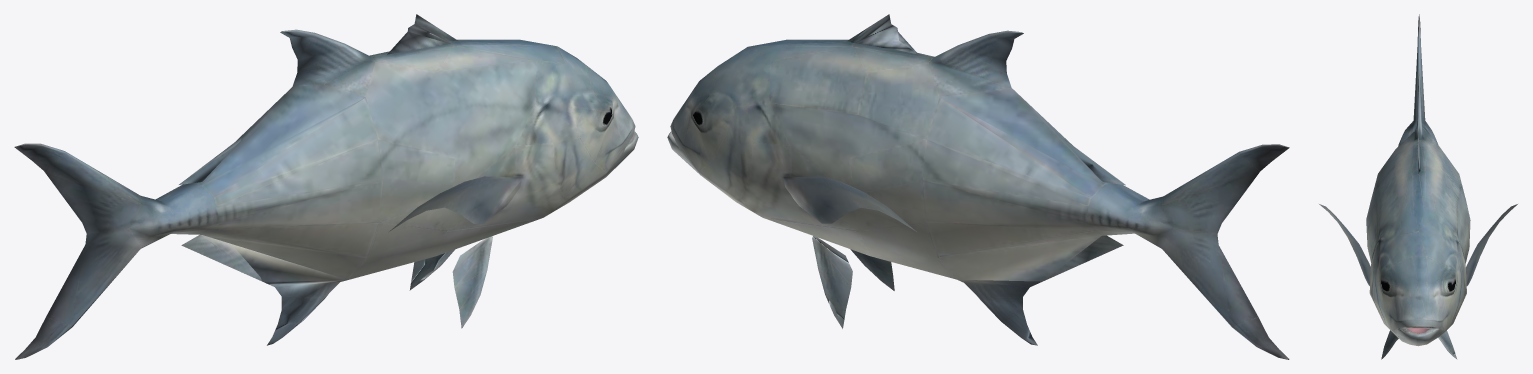
File: fish_blue.glb
3 views of the same model, side by side, from view 1: azimuth 30°, elevation 25°; view 2: azimuth 150°, elevation 25°; view 3: azimuth 270°, elevation 25° (orthographic). The views are drawn at different scales.
Parts seen in each view (by area): view 1: geometry_0; view 2: geometry_0; view 3: geometry_0.
Boxes of the visible parts, <box> form: geometry_0: <box>14,14,638,359</box>; geometry_0: <box>667,14,1289,359</box>; geometry_0: <box>1319,14,1517,359</box>.
Bounding box in the file's own units: 1 × 0.486 × 0.3804.
Materials: 1 (1 with a texture image).
